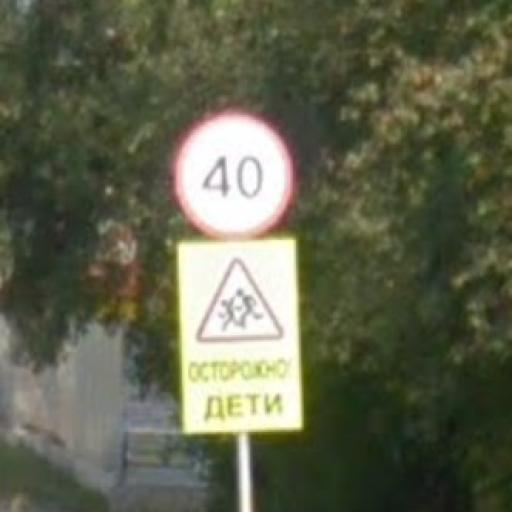traffic_sign: (172, 111, 296, 243), (195, 256, 285, 345)
